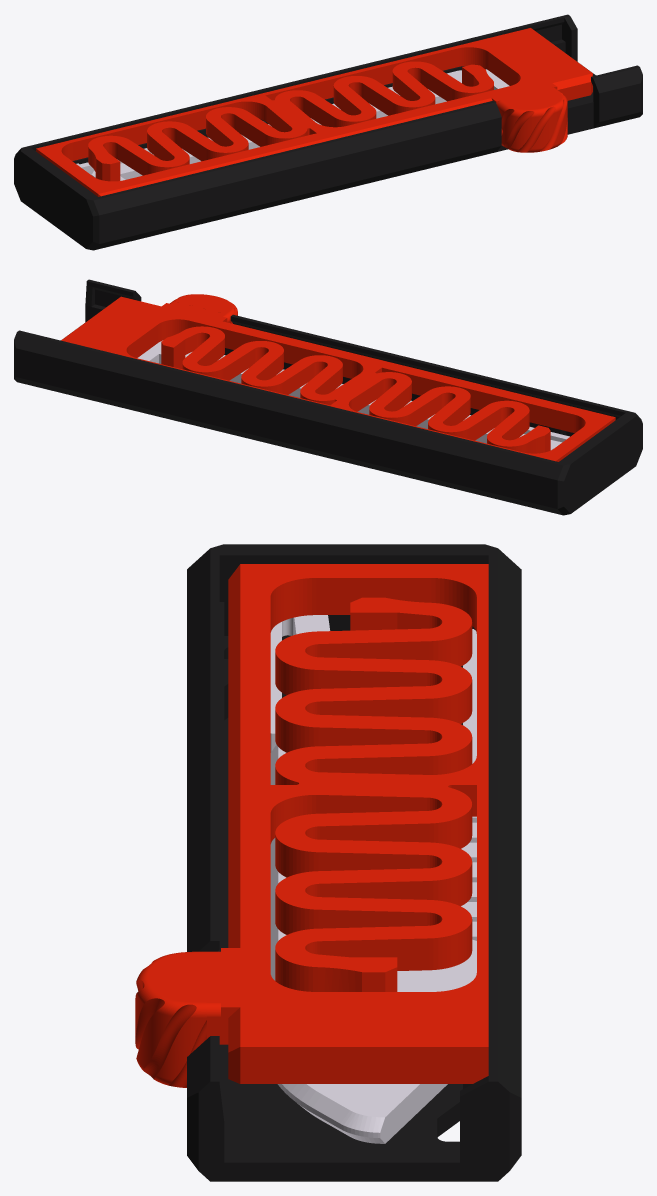
File: knife.glb
3 renders of one model, top to bottom at view 1: azimuth 30°, elevation 25°; view 2: azimuth 150°, elevation 25°; view 3: azimuth 270°, elevation 25°, orthographic. The views are drawn at different scales.
Visible parts, largest first — view 1: spring, main, knif; view 2: main, spring, knif; view 3: spring, main, knif.
Boxes of the visible parts, bbox=[...] form: spring: bbox=[36, 28, 592, 196]; main: bbox=[14, 14, 642, 250]; knif: bbox=[76, 69, 509, 180]; main: bbox=[14, 279, 642, 515]; spring: bbox=[61, 294, 615, 461]; knif: bbox=[137, 340, 569, 450]; spring: bbox=[135, 564, 488, 1087]; main: bbox=[187, 544, 521, 1181]; knif: bbox=[270, 615, 476, 1143].
Bounding box in the file's own units: 108 × 9.42 × 32.95.
